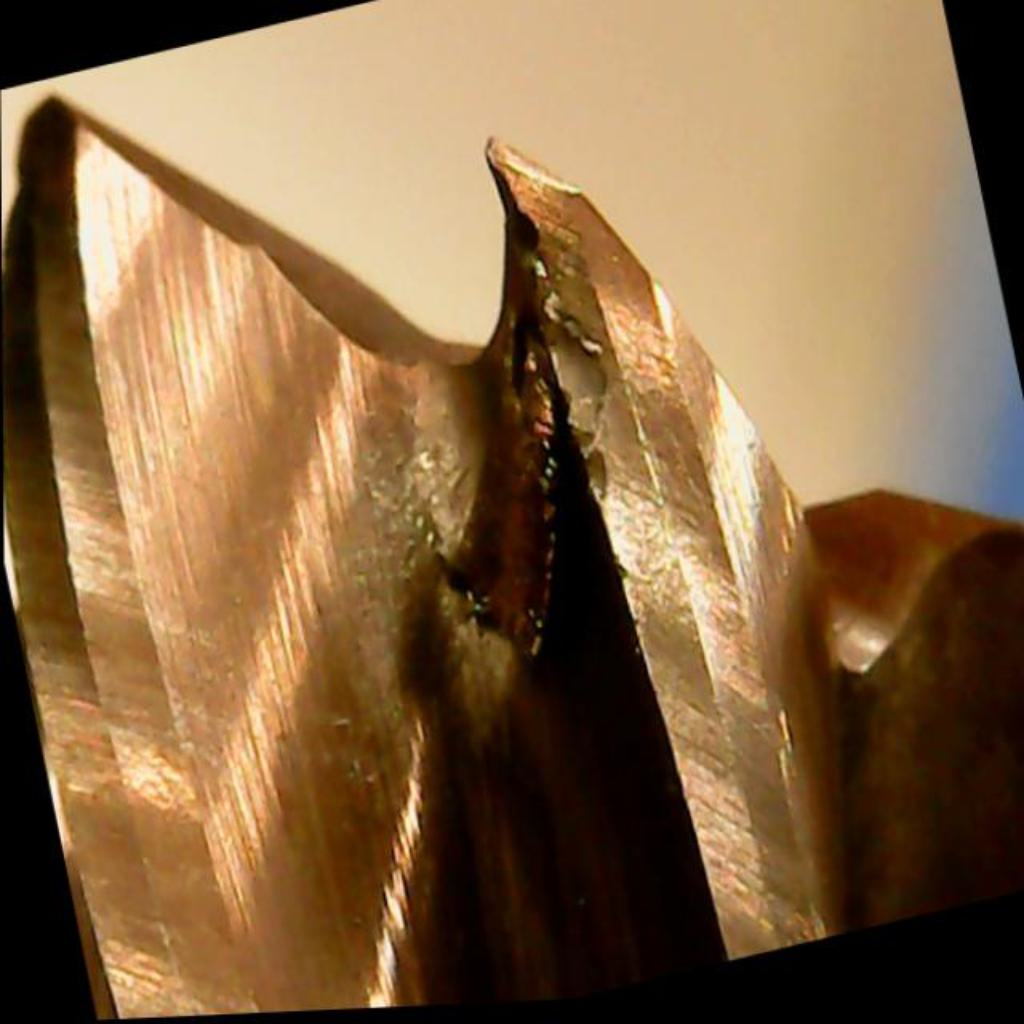Tool-wear-class-2: (440, 91, 779, 662)
